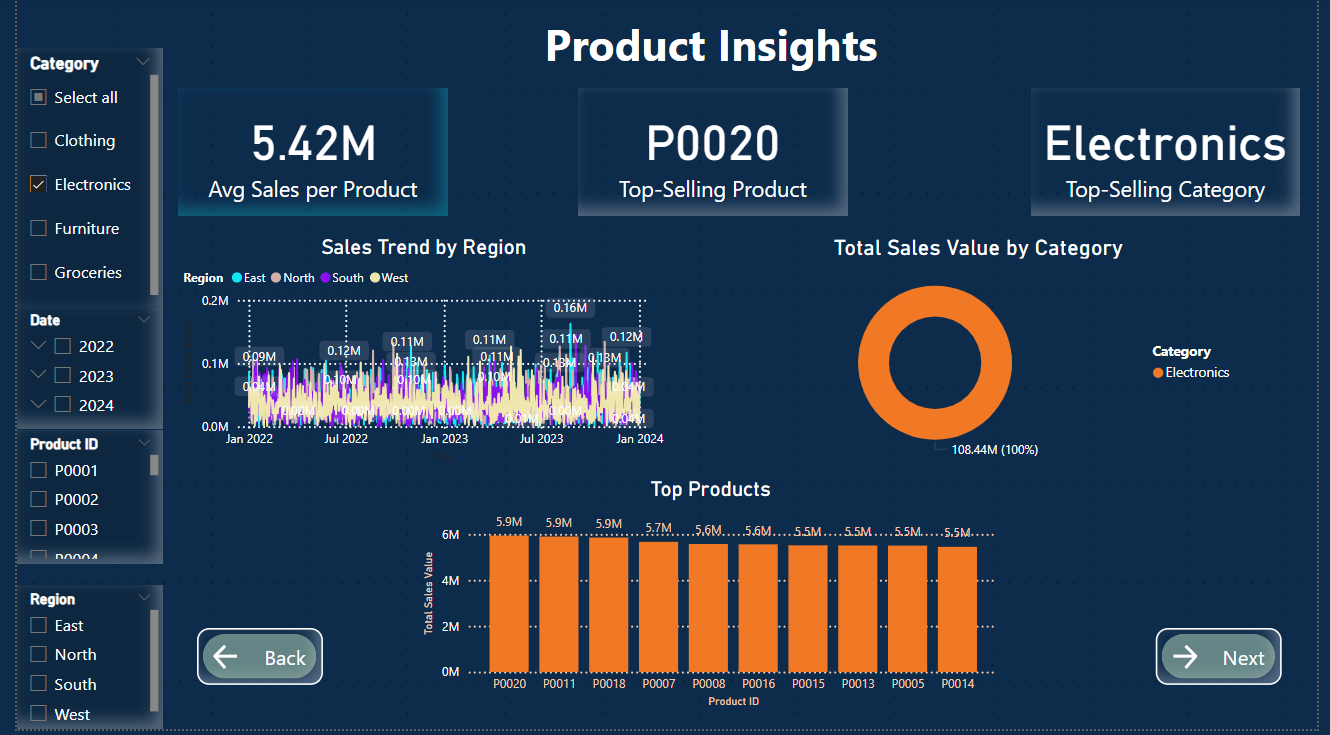

This screenshot's page, from the dashboard's own definition file:
{"tool":"powerbi","page":{"name":"Product Insights","canvas":[1280,720],"ordinal":3},"visuals":[{"type":"donutChart","fields":{"Category":["Retail_updateddata.Category"],"Y":["Retail_updateddata.Total Sales Value"]},"box":[685.3,232.3,522.3,229.4],"z":0},{"type":"lineStackedColumnComboChart","title":"Top Products","fields":{"Category":["Retail_updateddata.Product ID"],"Y":["Retail_updateddata.Total Sales Value"]},"box":[395.3,471.8,575.7,232.3],"z":1000},{"type":"lineChart","title":"Sales Trend by Region","fields":{"Category":["Retail_updateddata.Date.Variation.Date Hierarchy.Year","Retail_updateddata.Date.Variation.Date Hierarchy.Quarter","Retail_updateddata.Date.Variation.Date Hierarchy.Month","Retail_updateddata.Date.Variation.Date Hierarchy.Day"],"Series":["Retail_updateddata.Region"],"Y":["Retail_updateddata.Total Sales Value"]},"box":[158.7,232.3,483.3,229.4],"z":2000},{"type":"card","fields":{"Values":["Retail_updateddata.Avg Sales per Product"]},"box":[158.7,88,265.5,125.5],"z":3000},{"type":"card","fields":{"Values":["Retail_updateddata.Top-Selling Product"]},"box":[552,88,265.5,125.5],"z":4000},{"type":"card","fields":{"Values":["Retail_updateddata.Top-Selling Category"]},"box":[998.4,88,265.5,125.5],"z":5000},{"type":"textbox","box":[515.1,11.5,370.8,75],"z":6000},{"type":"slicer","fields":{"Values":["Retail_updateddata.Category"]},"box":[0,49.5,144.1,267.9],"z":7000},{"type":"slicer","fields":{"Values":["Retail_updateddata.Date.Variation.Date Hierarchy.Year","Retail_updateddata.Date.Variation.Date Hierarchy.Month","Retail_updateddata.Date.Variation.Date Hierarchy.Day"]},"box":[0,304.3,144.1,120.8],"z":8000},{"type":"slicer","fields":{"Values":["Retail_updateddata.Region"]},"box":[0,578.5,144.3,141.4],"z":9000},{"type":"slicer","fields":{"Values":["Retail_updateddata.Product ID"]},"box":[0,425.6,144.3,131.3],"z":10000},{"type":"actionButton","box":[1121,620.4,124.1,56.3],"z":11000},{"type":"actionButton","box":[177.5,620.4,124.1,56.3],"z":12000}]}

Visuals, with their boxes in screenshot pixels (x1, y1, x2, y2), scaled from the page's 1280x720 canvas onto the 1330x735 screenshot:
donutChart - Retail_updateddata.Category x Retail_updateddata.Total Sales Value: <bbox>712, 237, 1255, 471</bbox>
"Top Products" lineStackedColumnComboChart: <bbox>411, 482, 1009, 719</bbox>
"Sales Trend by Region" lineChart: <bbox>165, 237, 667, 471</bbox>
card - Retail_updateddata.Avg Sales per Product: <bbox>165, 90, 441, 218</bbox>
card - Retail_updateddata.Top-Selling Product: <bbox>574, 90, 849, 218</bbox>
card - Retail_updateddata.Top-Selling Category: <bbox>1037, 90, 1313, 218</bbox>
textbox: <bbox>535, 12, 921, 88</bbox>
slicer - Retail_updateddata.Category: <bbox>0, 51, 150, 324</bbox>
slicer - Retail_updateddata.Date.Variation.Date Hierarchy.Year x Retail_updateddata.Date.Variation.Date Hierarchy.Month: <bbox>0, 311, 150, 434</bbox>
slicer - Retail_updateddata.Region: <bbox>0, 591, 150, 734</bbox>
slicer - Retail_updateddata.Product ID: <bbox>0, 434, 150, 569</bbox>
actionButton: <bbox>1165, 633, 1294, 691</bbox>
actionButton: <bbox>184, 633, 313, 691</bbox>
